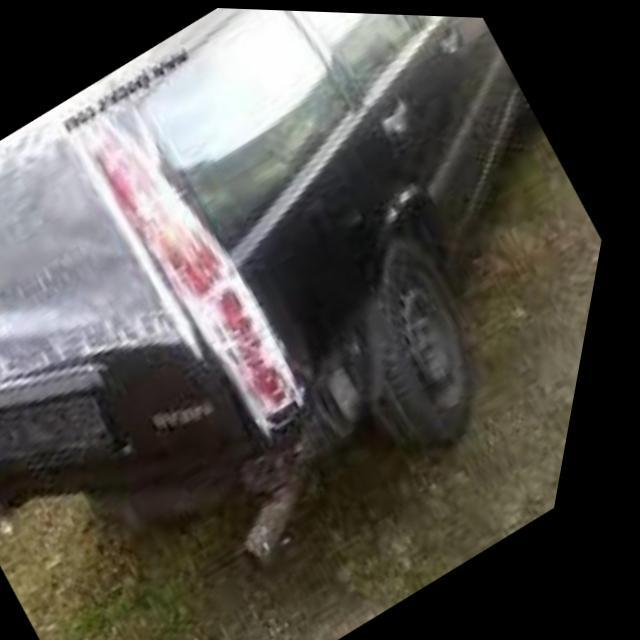dent: (155, 354, 221, 407)
glass shatter: (0, 130, 172, 335)
lamp broken: (74, 109, 315, 411)
no part: (0, 296, 385, 527)
